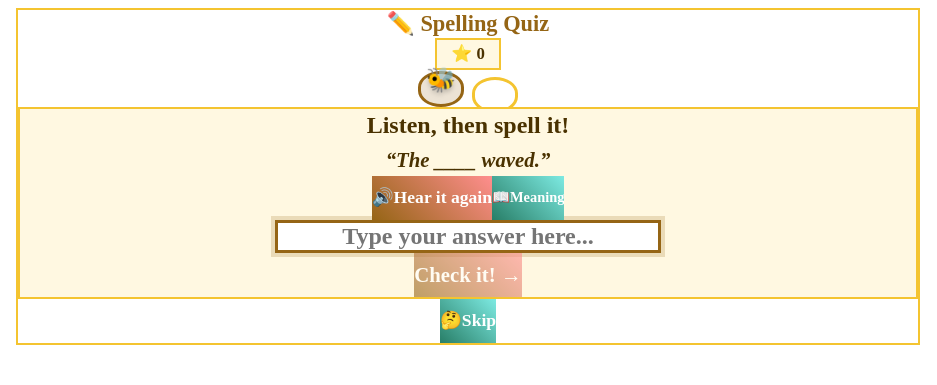
Test: QuizMode: one answer, one advance, one finish › spells with sameSpelling: case, accents and stray spaces set aside
In the field with placeholder "Type your answer here...": (468, 236) [275,220,661,253], type " Senor "
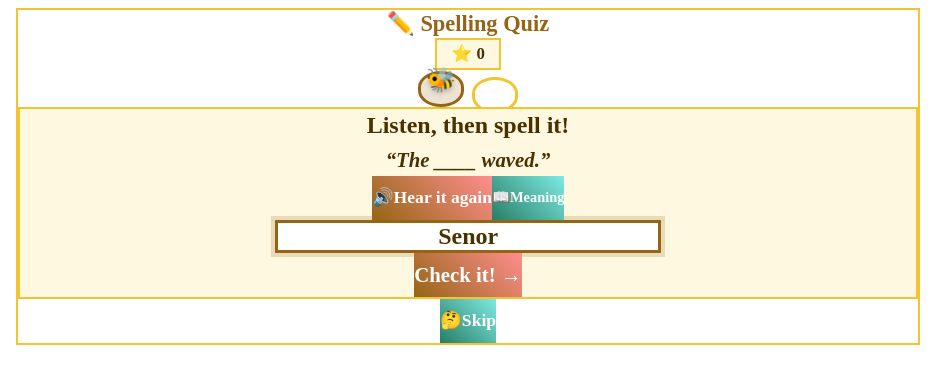
Click the button "Check it! →": (468, 275) [414,253,522,297]
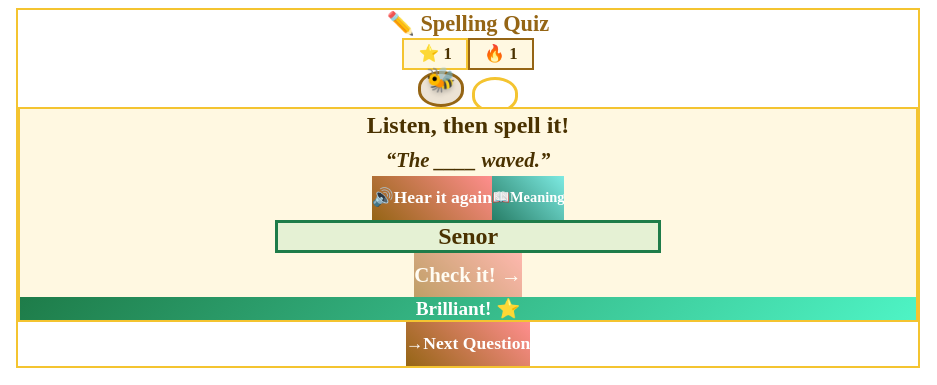
Now the message shows "⭐", box [492,298,520,319]
